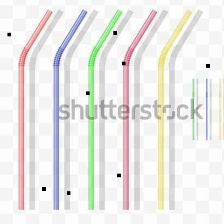drinking_straw: (48, 6, 89, 213), (84, 6, 125, 212), (119, 7, 160, 212), (154, 7, 195, 212), (14, 7, 54, 213)
